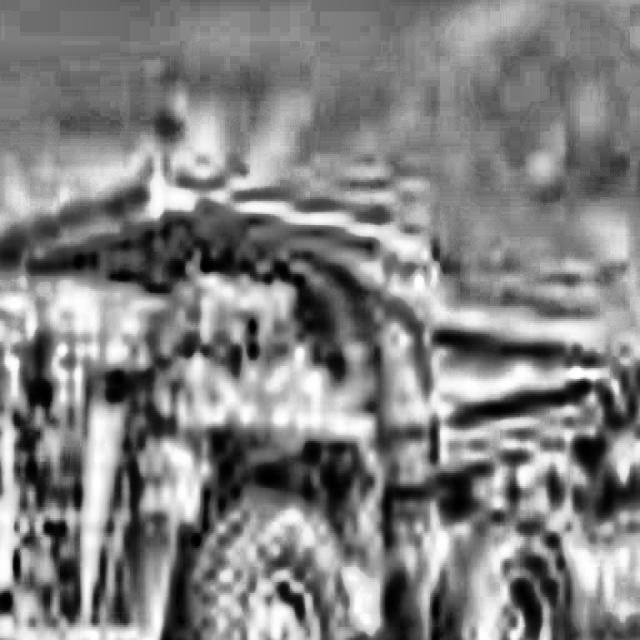dump_truck: (0, 169, 618, 640)
